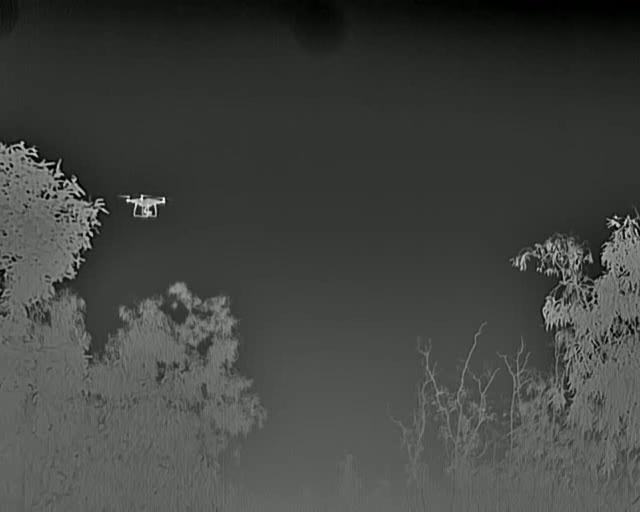DJI-Phantom: (116, 190, 175, 221)
